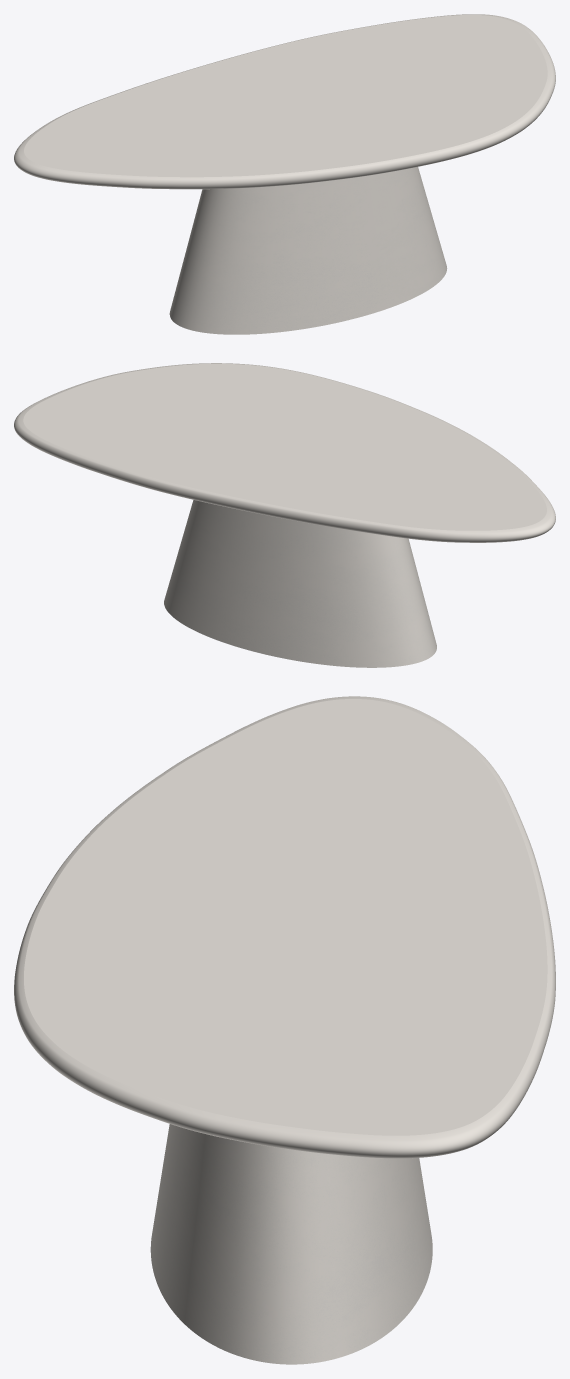
Rendered from pearlwhite_pebbletop_round_eqone.glb.
3 views of the same model, one above another, from view 1: azimuth 30°, elevation 25°; view 2: azimuth 150°, elevation 25°; view 3: azimuth 270°, elevation 25° (orthographic). The views are drawn at different scales.
Parts seen in each view (by area): view 1: round_pebbletop, eqone; view 2: round_pebbletop, eqone; view 3: round_pebbletop, eqone.
Part boxes in pixels (x1,y1,x2,y2): round_pebbletop: (14, 14, 555, 189); eqone: (169, 167, 447, 334); round_pebbletop: (14, 363, 555, 542); eqone: (164, 500, 436, 667); round_pebbletop: (14, 696, 555, 1158); eqone: (150, 1124, 432, 1364).
Bounding box in the file's own units: 7.5 × 2.51 × 3.8.
1 material, 1 textured.
